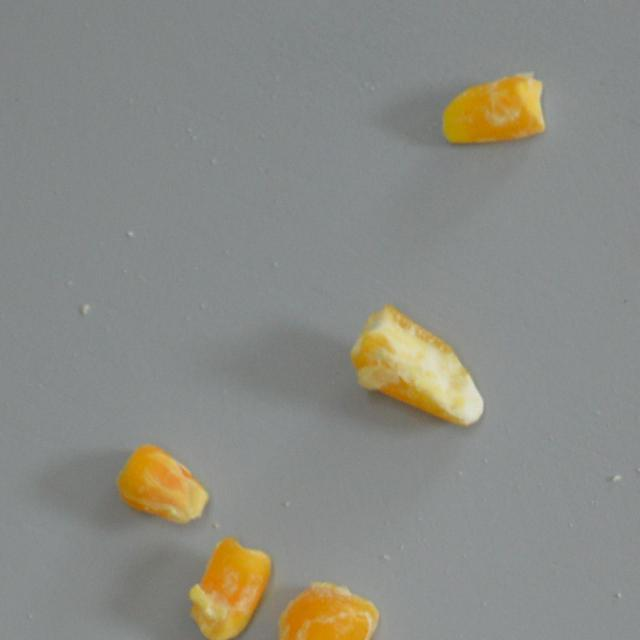pelicula: (374, 298, 468, 447), (450, 30, 544, 177), (176, 550, 279, 628), (126, 434, 200, 534), (256, 595, 386, 640)
